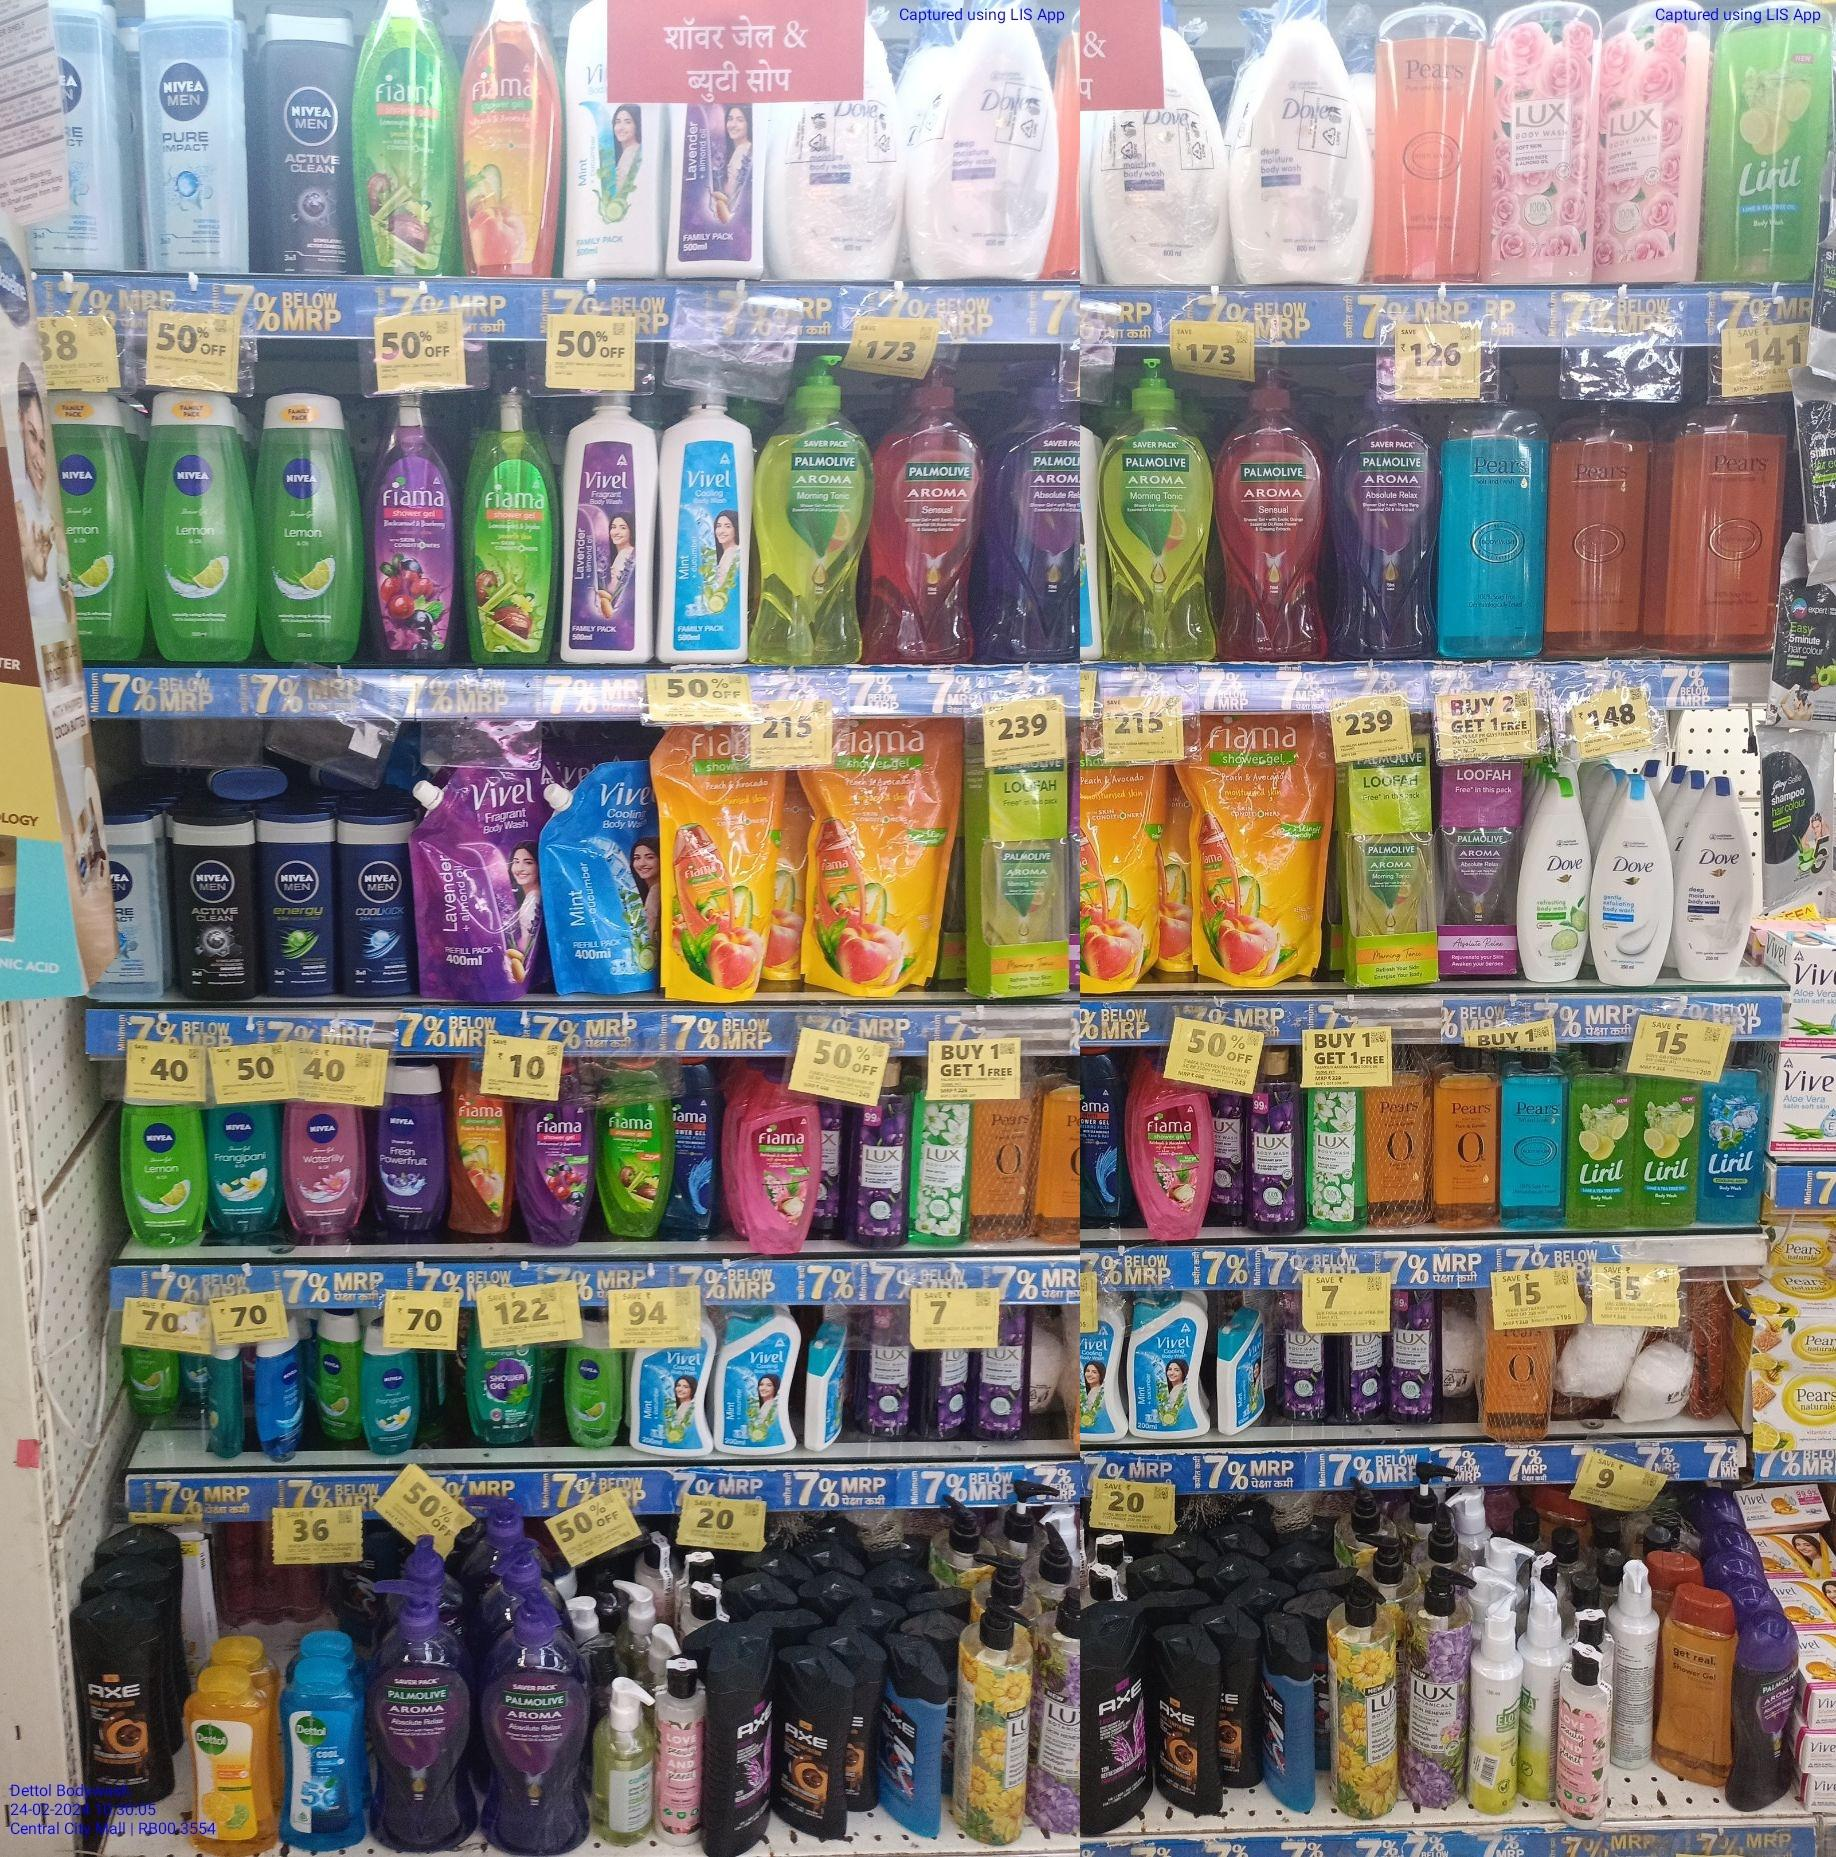Dettol_Bodywash_Cool: (281, 1670, 365, 1850)
Dettol_Bodywash_Refresh: (183, 1677, 269, 1857)
Fiama_Shower_Gel_Lemongrass_and_Jojoba_250ML: (597, 1058, 664, 1236)
Fiama_Shower_Gel_Patchouli_and_Macadamia_250ML: (745, 1075, 817, 1253), (1133, 1065, 1206, 1240)
Liril_Cooling_Mint_Body_Wash_250ML: (1701, 1048, 1764, 1221)
Liril_Lime_and_Tea_Tree_Oil_Body_Wash_250ML: (1572, 1048, 1633, 1226), (1634, 1075, 1700, 1226)
Lux_Black_Orchid_Scent_and_Juniper_Oil_Body_Wash_245ML: (1242, 1046, 1300, 1231), (854, 1058, 908, 1250), (1390, 1292, 1443, 1421), (975, 1305, 1024, 1443), (864, 1305, 913, 1438), (1278, 1295, 1325, 1420), (1342, 1331, 1380, 1423), (931, 1346, 970, 1436)
Lux_Body_Wash_Skin_Detox_Freesia_Scent_and_Alove_Vera_245ML: (913, 1082, 970, 1246), (1310, 1085, 1362, 1230)
Nivea_Shower_Gel_Lemon_and_Oil_250ML: (261, 394, 361, 663), (44, 389, 136, 663), (151, 389, 245, 658)
Pears_Pure_Glycerin_and_Mint_Extracts_Body_Wash_250ML: (1501, 1051, 1565, 1226)
